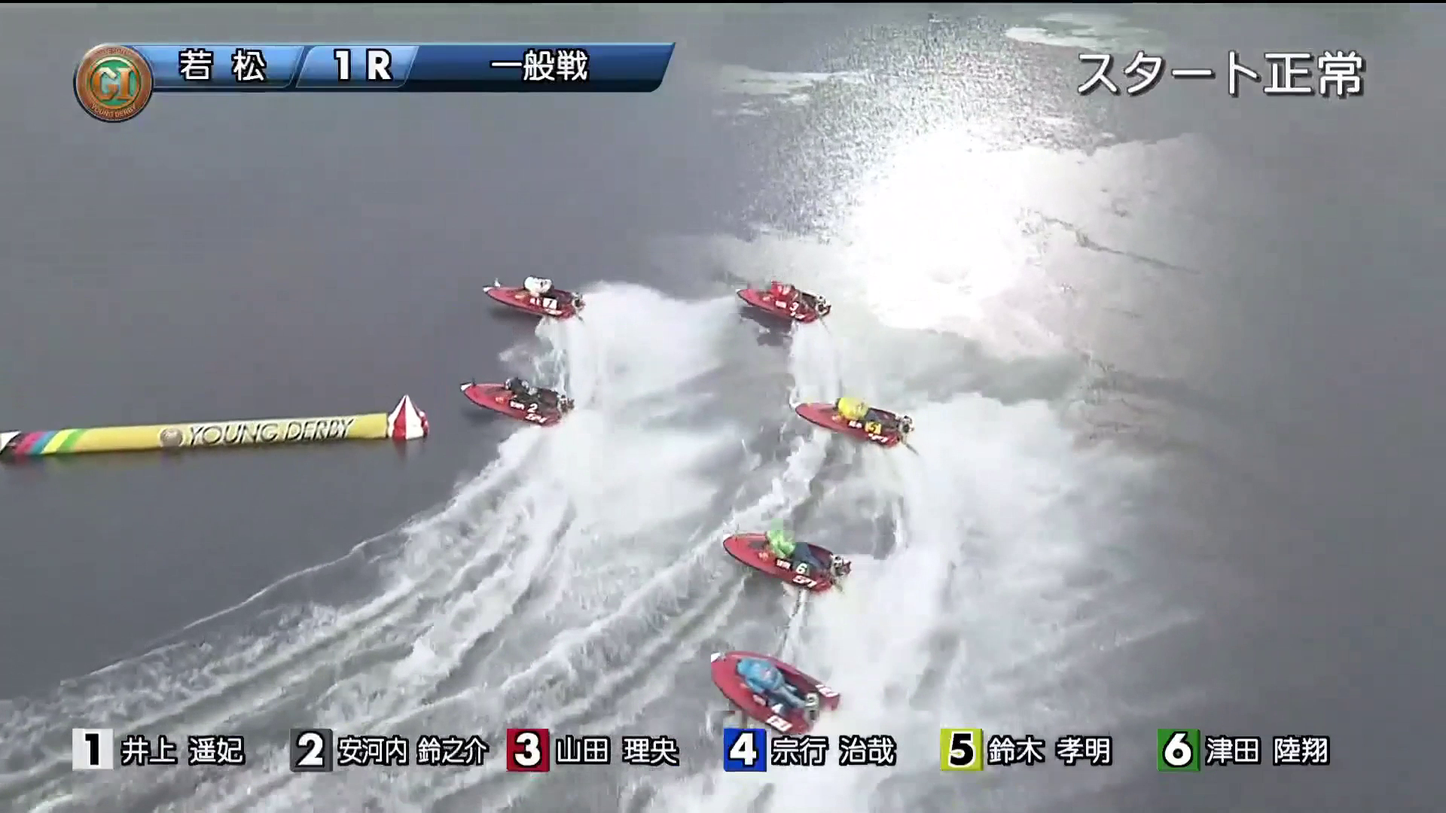１号艇: (480, 287, 551, 341)
２号艇: (437, 373, 566, 433)
３号艇: (731, 277, 829, 324)
４号艇: (708, 528, 842, 593)
５号艇: (710, 664, 834, 719)
６号艇: (793, 377, 893, 458)
